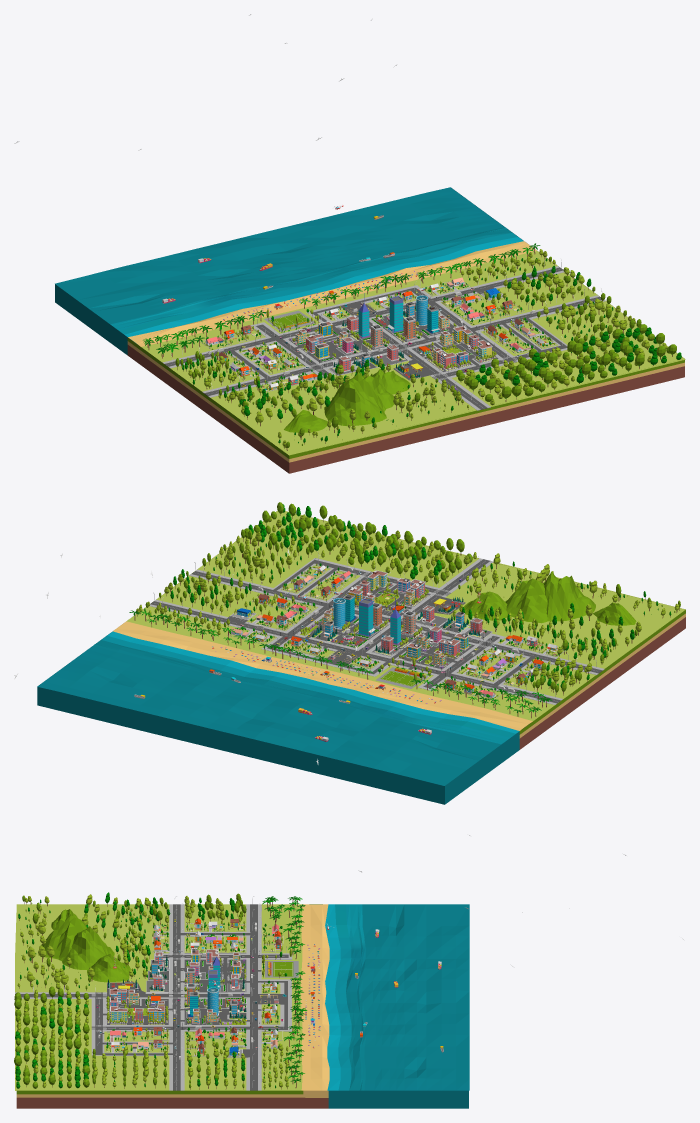
File: city-transformed.glb
The picture shows the model from 3 angles, top to bottom: view 1: azimuth 30°, elevation 25°; view 2: azimuth 150°, elevation 25°; view 3: azimuth 270°, elevation 25°; orthographic projection. The views are drawn at different scales.
Visible parts, largest first — view 1: Resque; view 2: Resque; view 3: Resque.
Boxes of the visible parts, x1,y1,x2,y2 form: Resque: (55,187,685,473); Resque: (37,502,685,804); Resque: (14,892,469,1108).
Bounding box in the file's own units: 169 × 73.2 × 256.
Materials: 2 (1 with a texture image).
